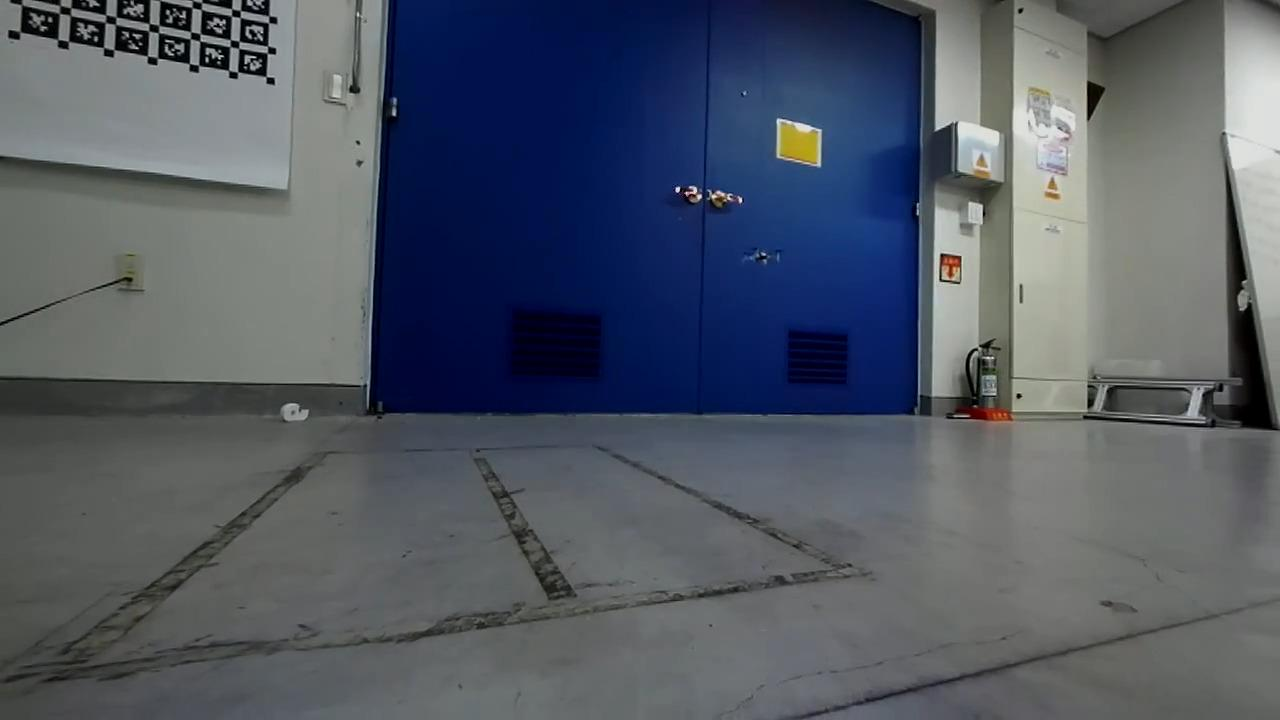crazyflie: (735, 244, 788, 270)
